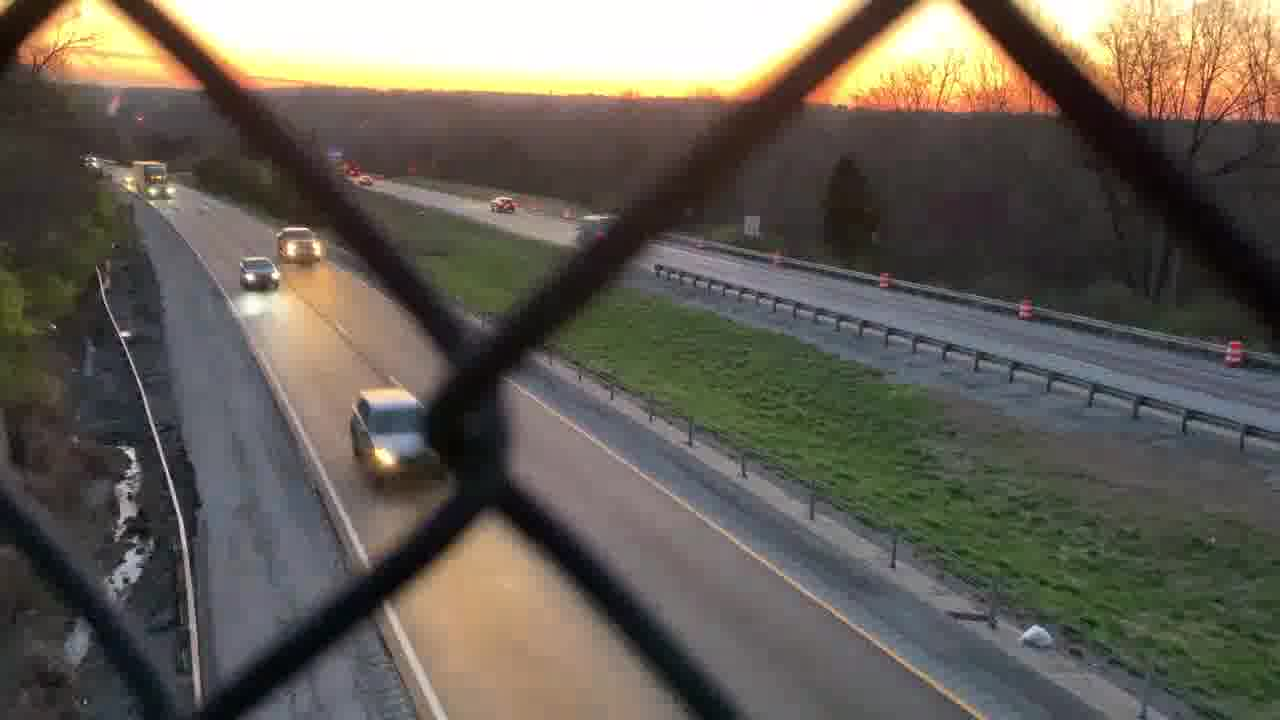largeCar: (344, 388, 444, 482)
lightTruck: (272, 225, 324, 265)
